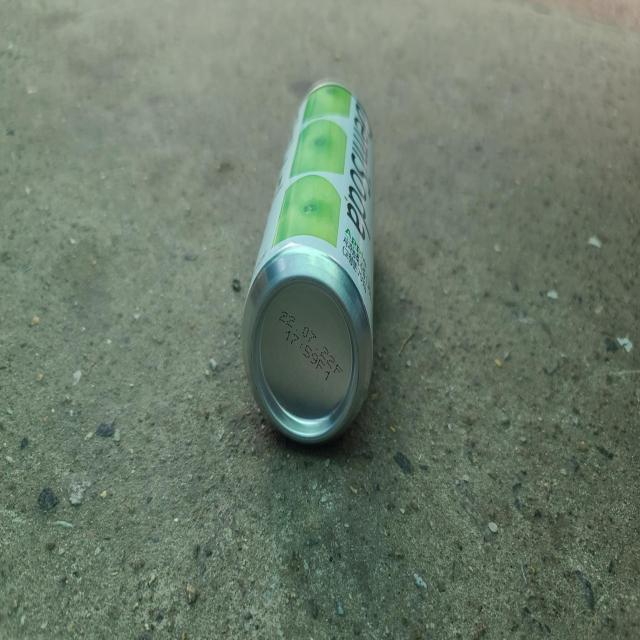can: (242, 79, 373, 443)
